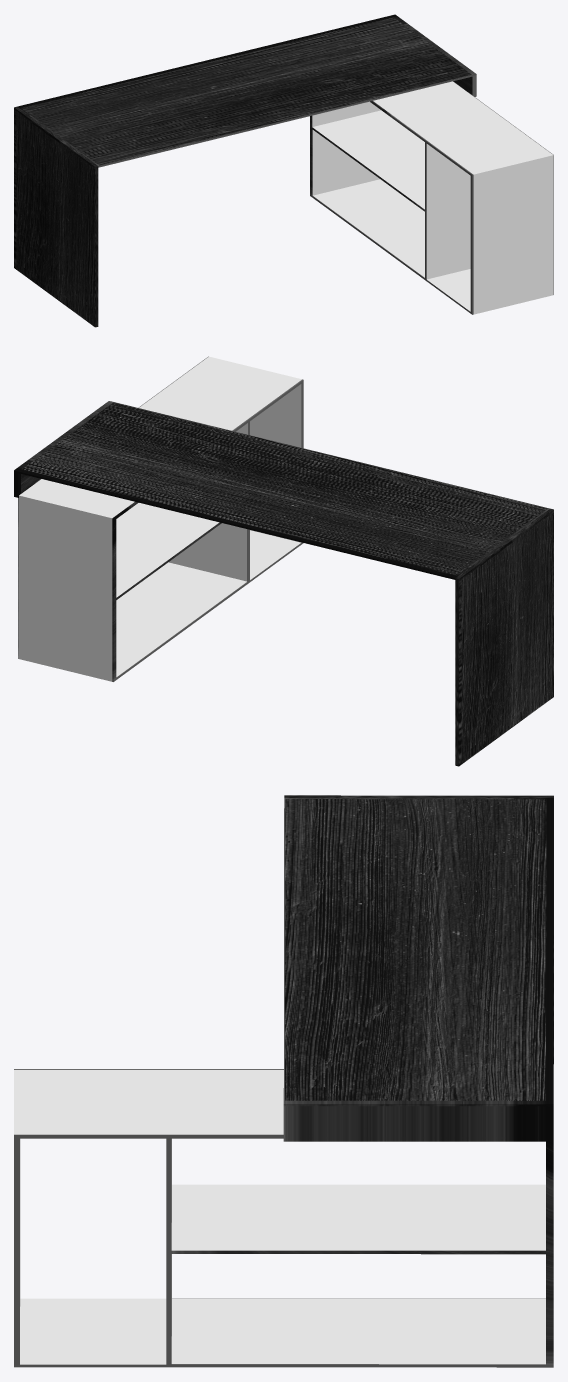
The model's file is mueble2.glb.
3 renders of one model, top to bottom at view 1: azimuth 30°, elevation 25°; view 2: azimuth 150°, elevation 25°; view 3: azimuth 270°, elevation 25°, orthographic. The views are drawn at different scales.
Visible parts, largest first — view 1: Escritorio_WhiteWoodTexture_0, Escritorio_WhiteWoodTexture_0.001; view 2: Escritorio_WhiteWoodTexture_0, Escritorio_WhiteWoodTexture_0.001; view 3: Escritorio_WhiteWoodTexture_0, Escritorio_WhiteWoodTexture_0.001.
Boxes of the visible parts, x1,y1,x2,y2 form: Escritorio_WhiteWoodTexture_0: (14,14,553,327); Escritorio_WhiteWoodTexture_0.001: (312,81,553,314); Escritorio_WhiteWoodTexture_0: (14,356,553,766); Escritorio_WhiteWoodTexture_0.001: (19,356,301,681); Escritorio_WhiteWoodTexture_0: (14,795,553,1367); Escritorio_WhiteWoodTexture_0.001: (14,1070,545,1364).
Bounding box in the file's own units: 10.52 × 4.24 × 7.78.
Materials: 2 (1 with a texture image).
